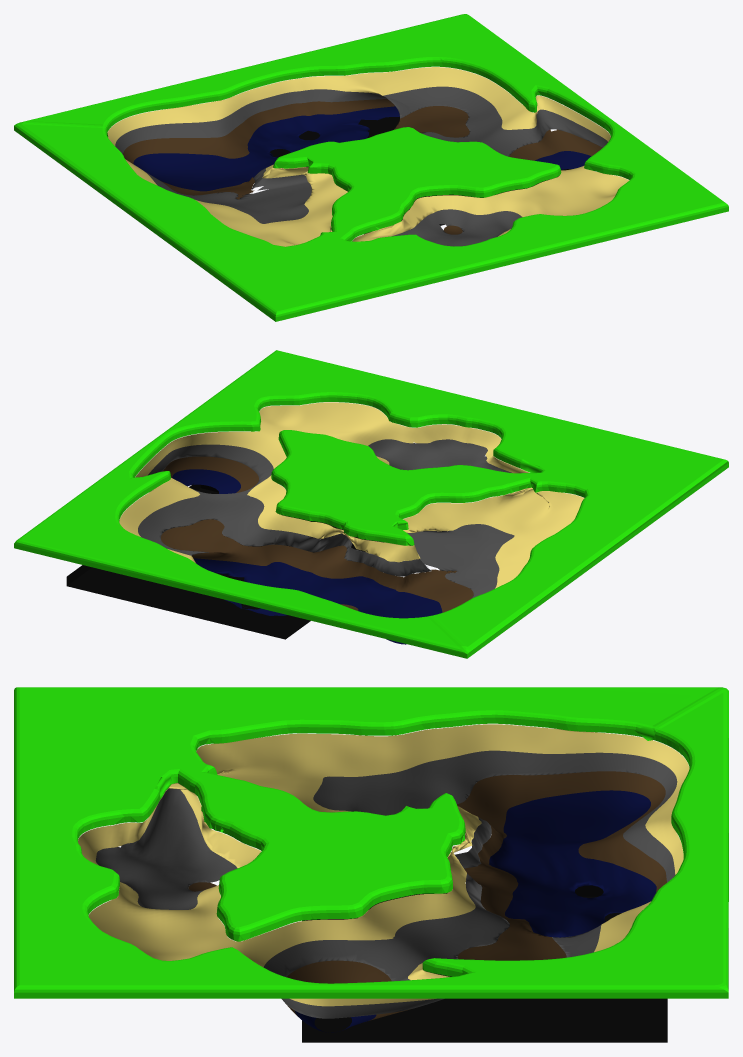
The model's file is DANlAKE.glb.
The picture shows the model from 3 angles, top to bottom: view 1: azimuth 30°, elevation 25°; view 2: azimuth 150°, elevation 25°; view 3: azimuth 270°, elevation 25°; orthographic projection. The views are drawn at different scales.
Visible parts, largest first — view 1: l1-FINALLY, L2-sandy, L3-rocks, L5-deep, L4-caves, L6-bottom; view 2: l1-FINALLY, L2-sandy, L3-rocks, L4-caves, L5-deep, L6-bottom; view 3: l1-FINALLY, L2-sandy, L3-rocks, L5-deep, L6-bottom, L4-caves.
Boxes of the visible parts, left/top/right/bottom form: l1-FINALLY: left=14, top=14, right=728, bottom=321; L2-sandy: left=107, top=67, right=628, bottom=246; L3-rocks: left=115, top=86, right=607, bottom=246; L5-deep: left=133, top=106, right=591, bottom=191; L4-caves: left=123, top=99, right=602, bottom=234; L6-bottom: left=270, top=117, right=571, bottom=234; l1-FINALLY: left=14, top=350, right=728, bottom=658; L2-sandy: left=119, top=402, right=584, bottom=588; L3-rocks: left=138, top=439, right=514, bottom=598; L4-caves: left=161, top=456, right=473, bottom=612; L5-deep: left=172, top=469, right=442, bottom=644; L6-bottom: left=66, top=483, right=365, bottom=639; l1-FINALLY: left=14, top=687, right=728, bottom=998; L2-sandy: left=78, top=724, right=689, bottom=1006; L3-rocks: left=95, top=750, right=677, bottom=1018; L5-deep: left=295, top=790, right=656, bottom=1032; L6-bottom: left=302, top=885, right=667, bottom=1042; L4-caves: left=188, top=771, right=666, bottom=1020.
Size of the model in its own units: 1503 by 176 by 1500.
